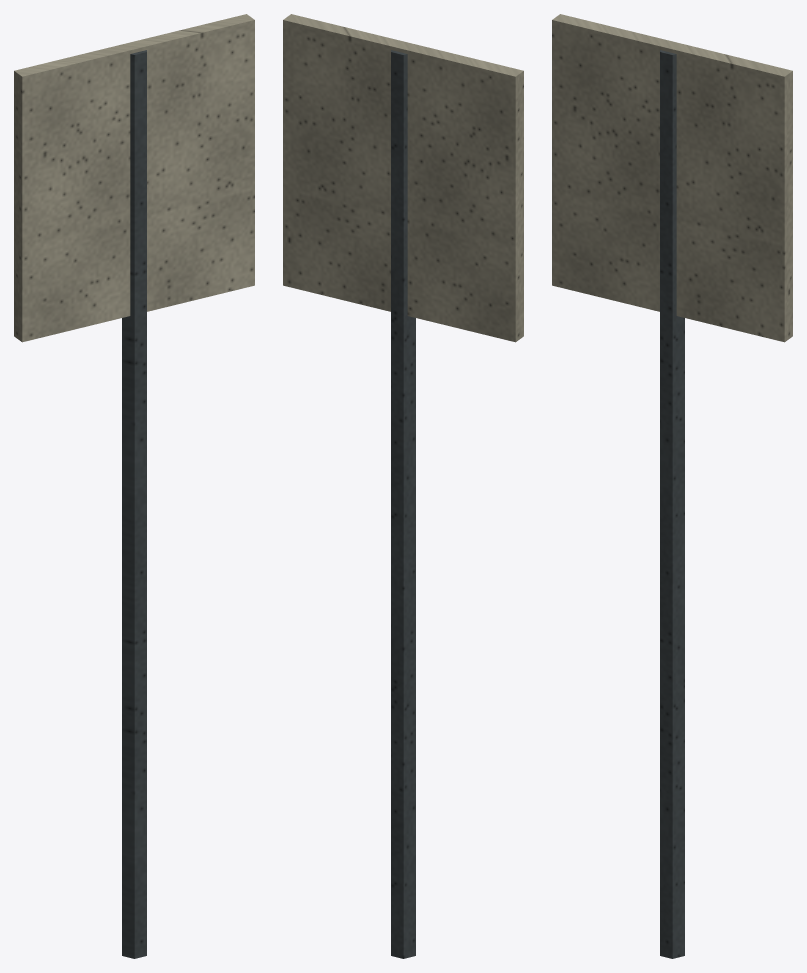
The model's file is PROP-11099881720B_lod2.glb.
3 renders of one model, left to right at view 1: azimuth 30°, elevation 25°; view 2: azimuth 150°, elevation 25°; view 3: azimuth 330°, elevation 25°, orthographic.
Visible parts, largest first — view 1: sign_plate.007, sign_post.009; view 2: sign_plate.007, sign_post.009; view 3: sign_plate.007, sign_post.009.
Boxes of the visible parts, x1=… form: sign_plate.007: x1=14, y1=14, x2=254, y2=342; sign_post.009: x1=122, y1=50, x2=146, y2=958; sign_plate.007: x1=283, y1=14, x2=523, y2=342; sign_post.009: x1=391, y1=50, x2=415, y2=958; sign_plate.007: x1=552, y1=14, x2=792, y2=342; sign_post.009: x1=660, y1=50, x2=684, y2=958.
Bounding box in the file's own units: 0.66 × 2.46 × 0.0606.
2 materials, 2 textured.
